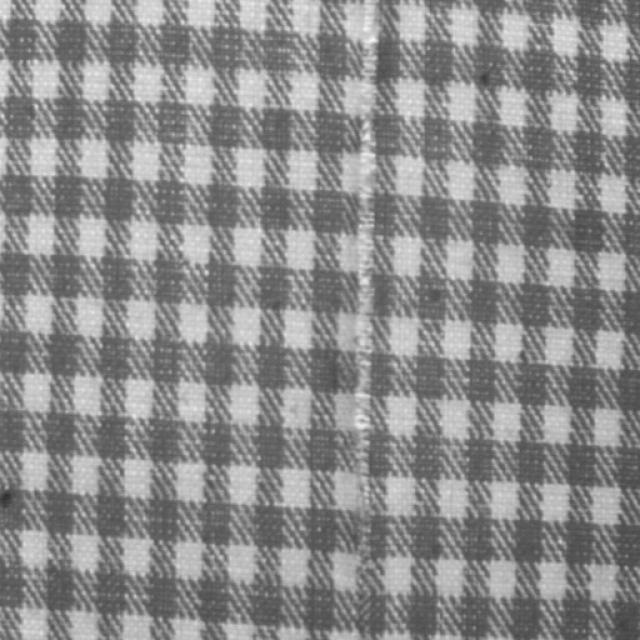Thread-Defect: (352, 0, 378, 550)
